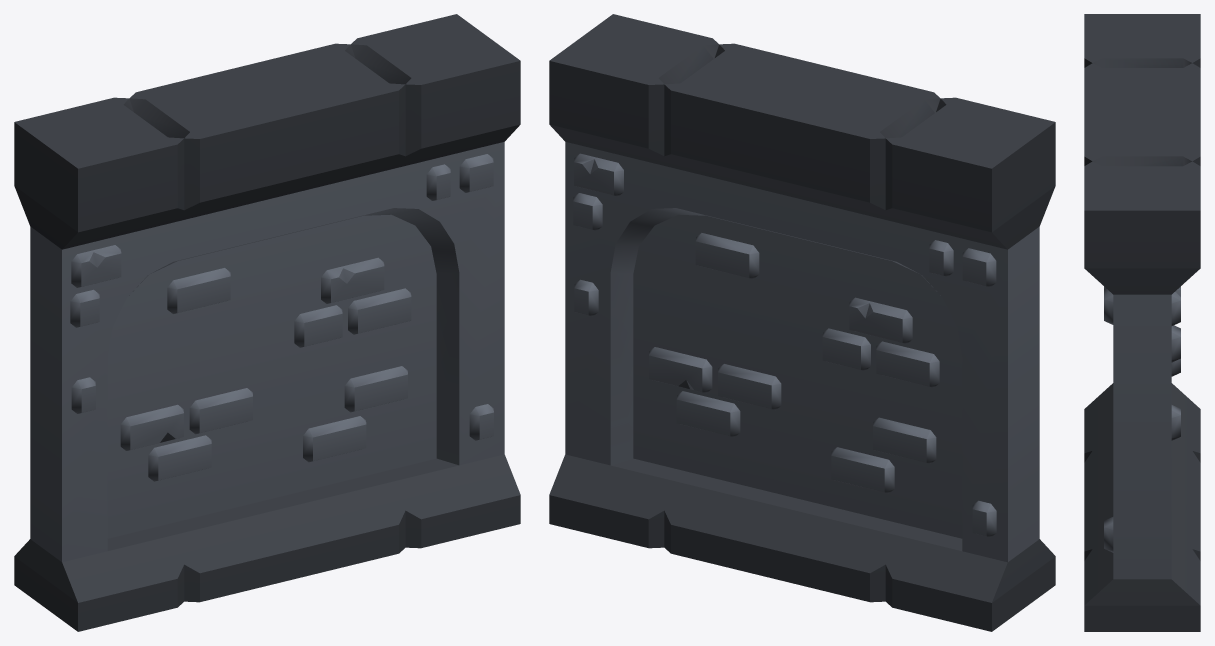
The model's file is wall_arched.glb.
3 views of the same model, side by side, from view 1: azimuth 30°, elevation 25°; view 2: azimuth 150°, elevation 25°; view 3: azimuth 270°, elevation 25° (orthographic). The views are drawn at different scales.
Visible parts, largest first — view 1: wall_arched; view 2: wall_arched; view 3: wall_arched.
Boxes of the visible parts, bbox=[...] form: wall_arched: bbox=[14, 14, 520, 631]; wall_arched: bbox=[549, 14, 1055, 631]; wall_arched: bbox=[1084, 14, 1200, 631].
Size of the model in its own units: 4 by 4 by 1.
1 material, 1 textured.
